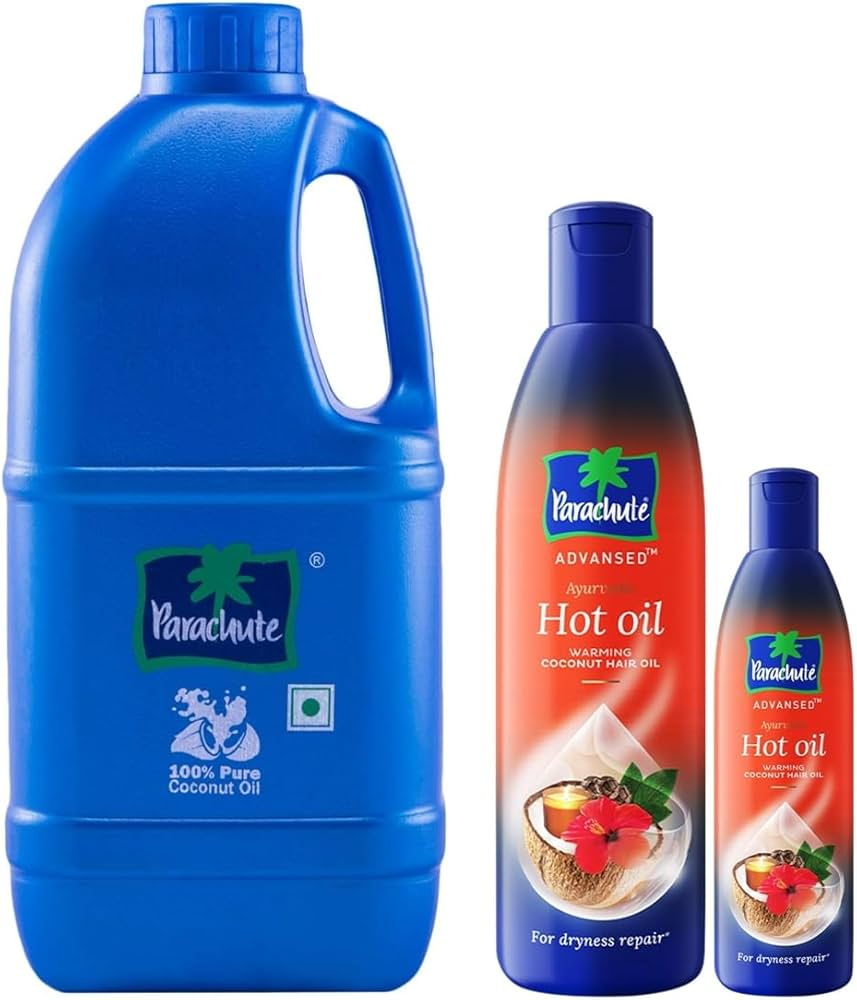parachute: (0, 0, 857, 989), (157, 318, 598, 777), (125, 521, 313, 811), (41, 462, 157, 520)
